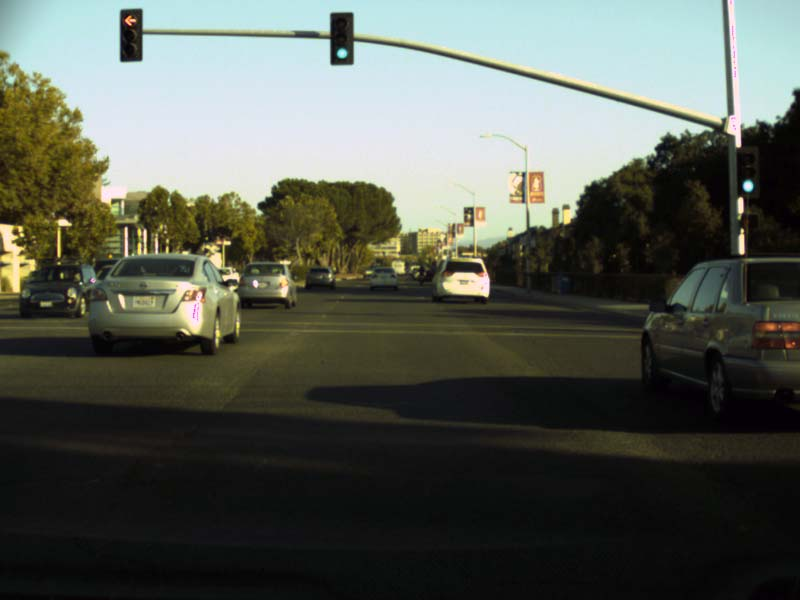Green: (330, 12, 353, 65), (736, 147, 757, 196)
Red: (119, 9, 142, 60)
